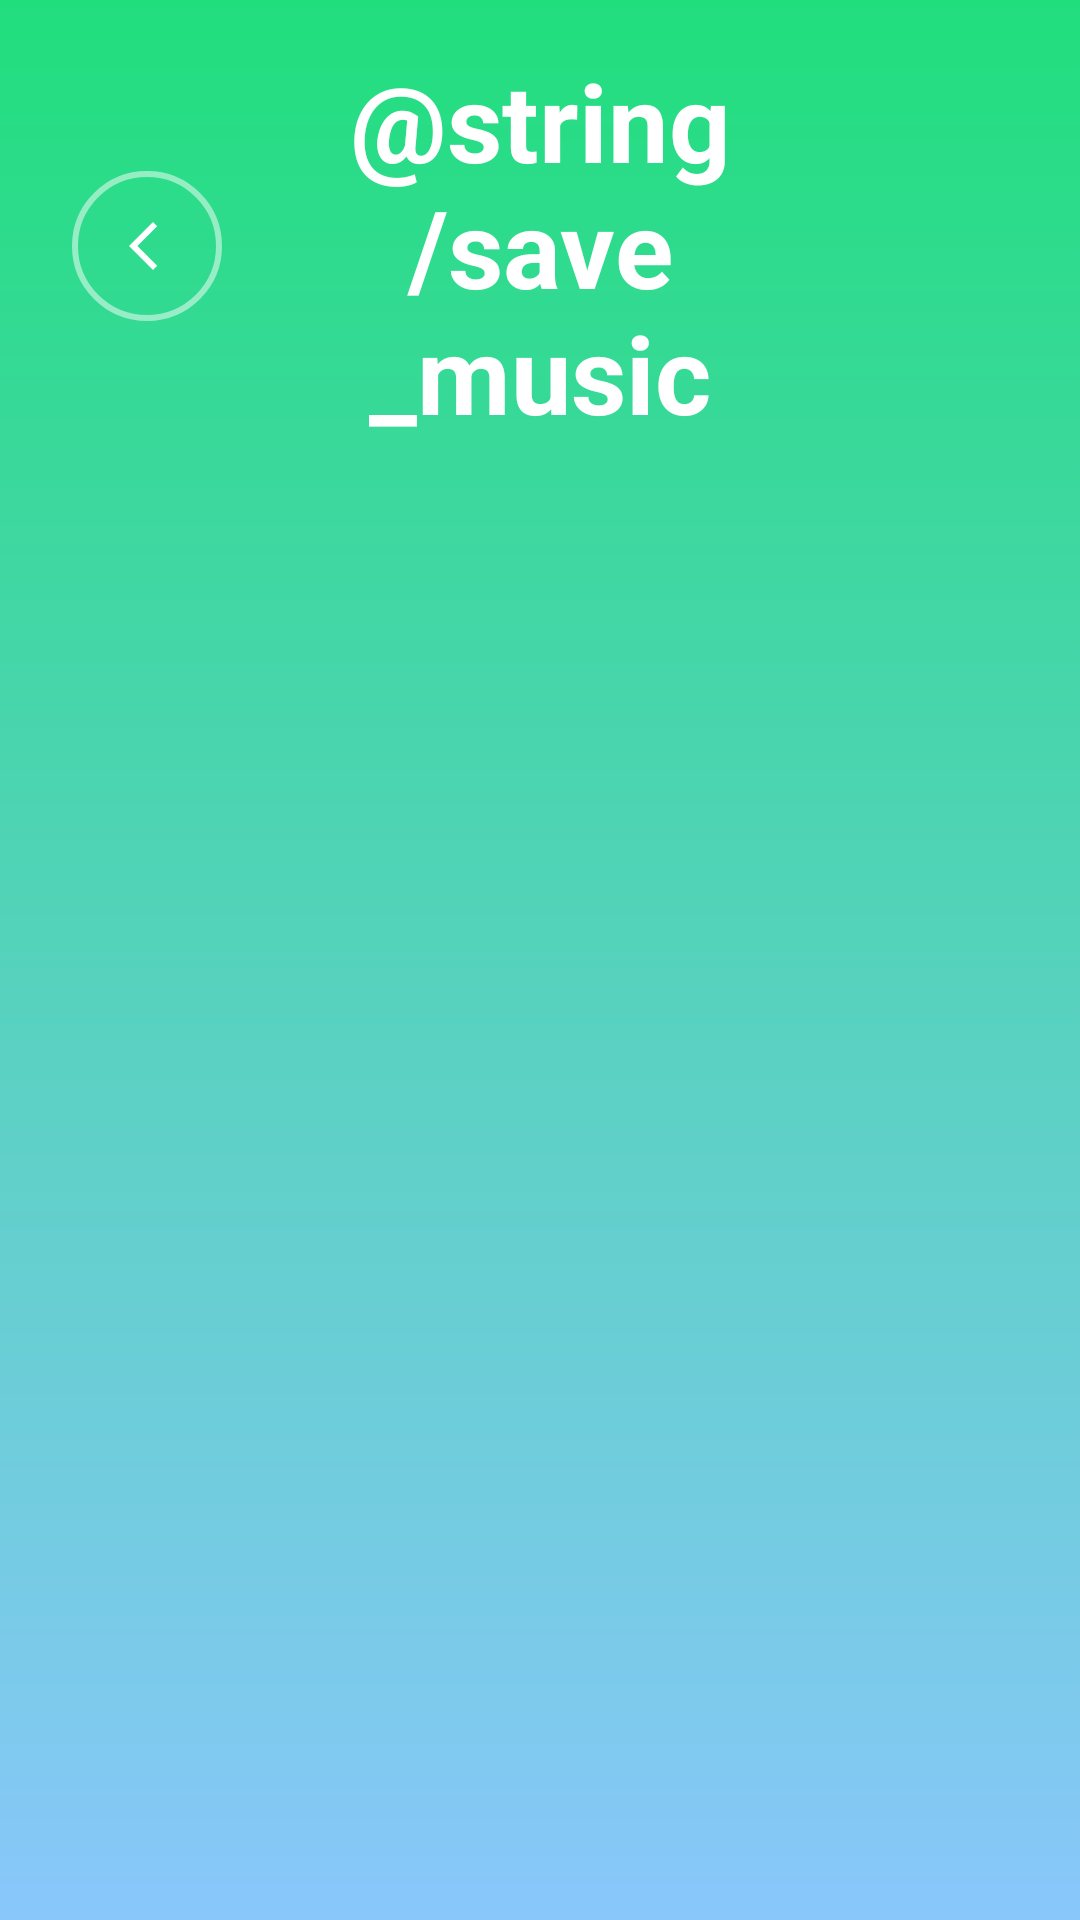

Icon click points for this 1080w x 1920h phone screenshot, format [x,y]:
Назад: [147,246]
